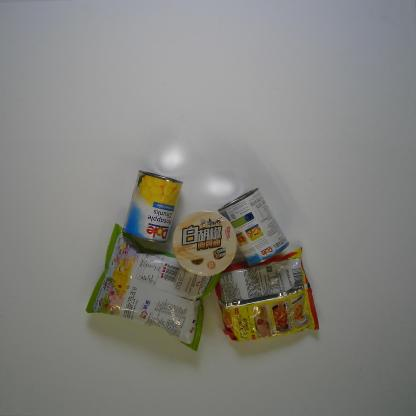Canned Food: (217, 188, 290, 267), (122, 170, 184, 242)
Instant Noodles: (215, 246, 320, 342), (172, 209, 237, 278)
Puffed Food: (85, 222, 224, 354)
